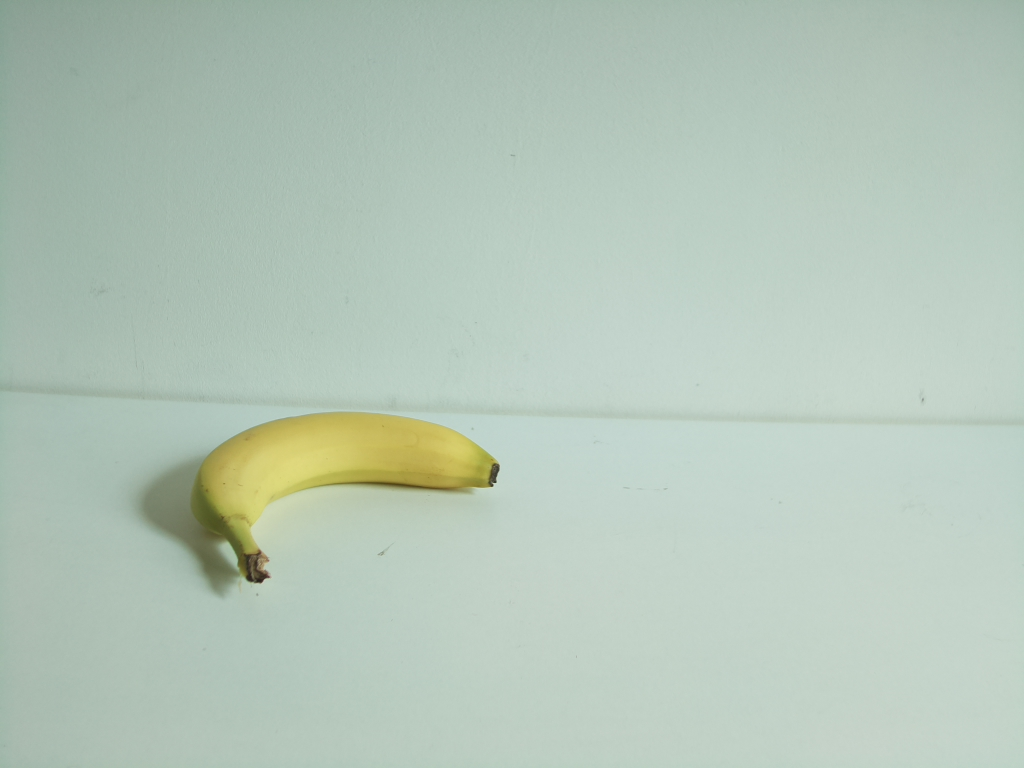banana: (191, 410, 501, 584)
